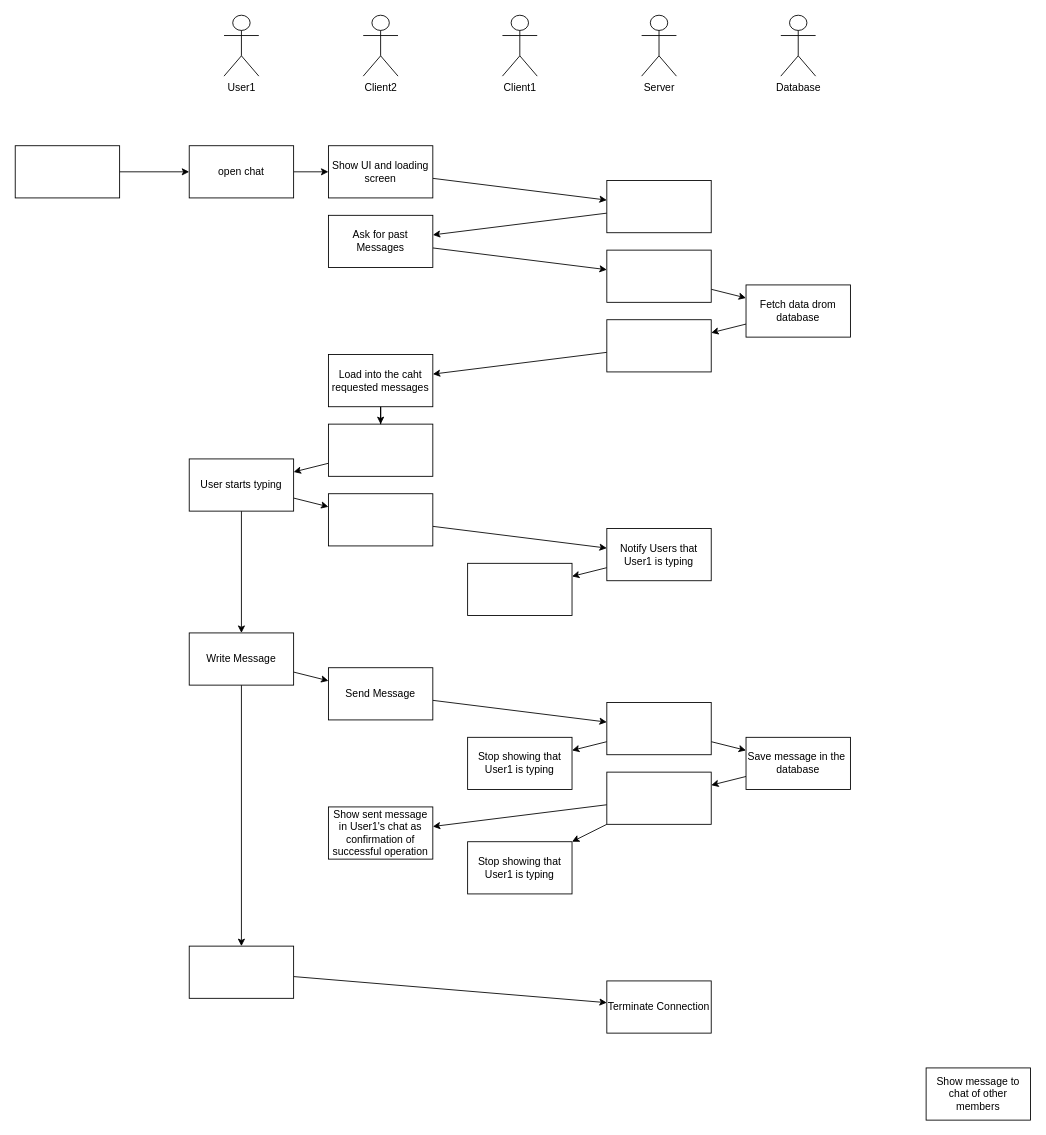
Some shapes in this 1046 by 1135 pixel diagram are drawn without their labels. Each missing label, with the centre of its shape:
"Await input" goes at [380,449].
"Check the message and pass it further" goes at [658,728].
"Close chat" goes at [241,971].
"Establish connection" goes at [658,206].
"Notify Server that User1 is typing" goes at [380,519].
"Receive confirmation" goes at [658,797].
"Request data from database" goes at [658,275].
"Send data to client" goes at [658,345].
"Show notification that User1 is typing" goes at [519,589].
"Start" goes at [67,171].
